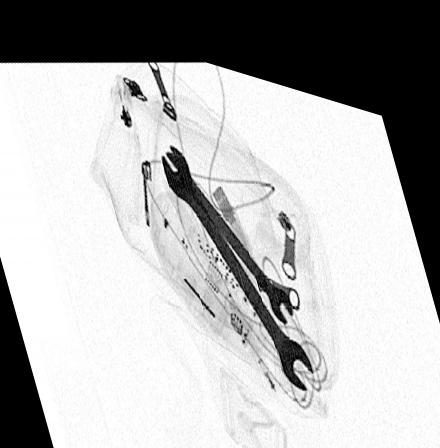Wrench: (162, 132, 312, 370), (163, 140, 293, 306)
